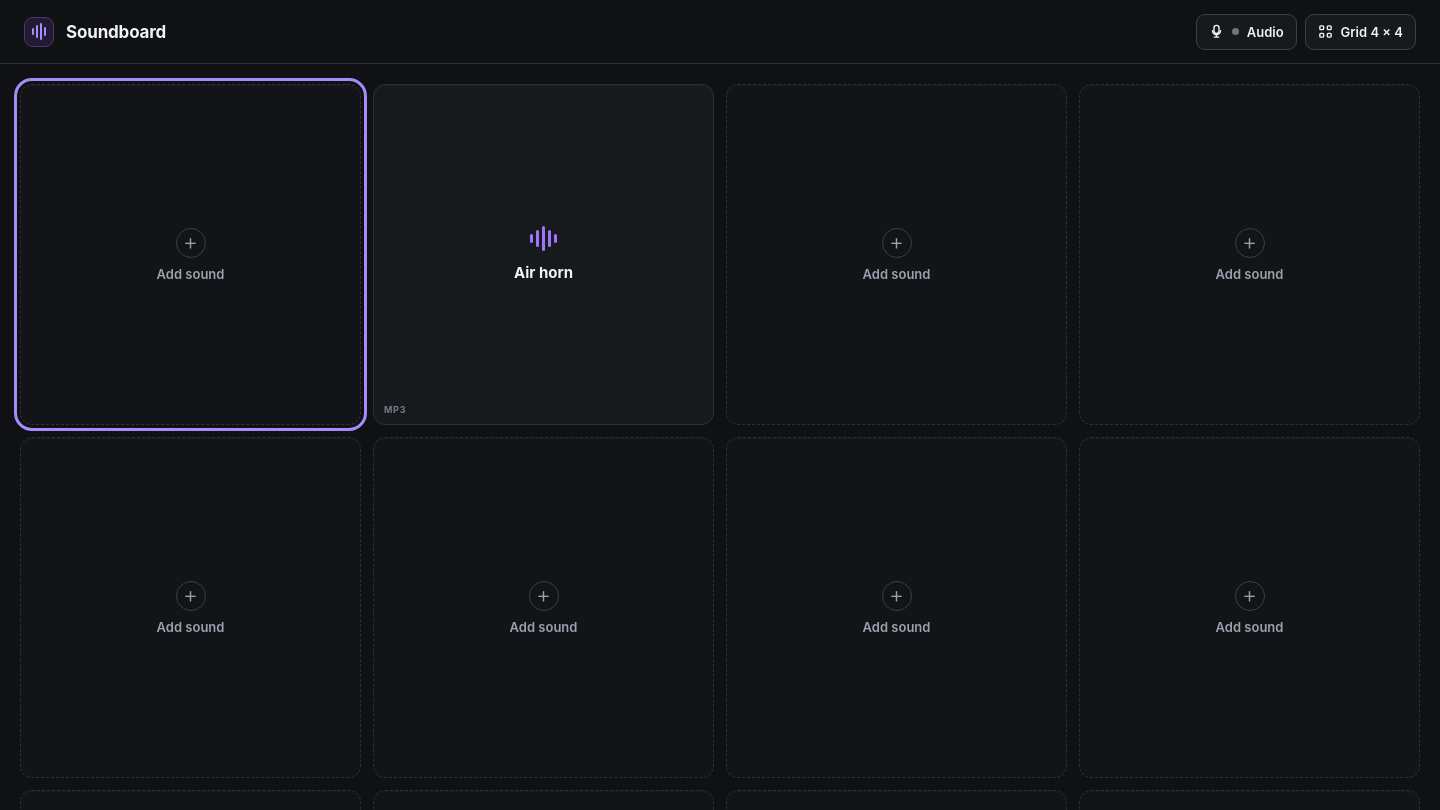
Test: Soundboard › supports empty-cell import and menu workflows from the keyboard
Click the button with aria-label "Row 1, column 1, empty, add sound".
click(190, 254)  # box 20,84 -> 361,425
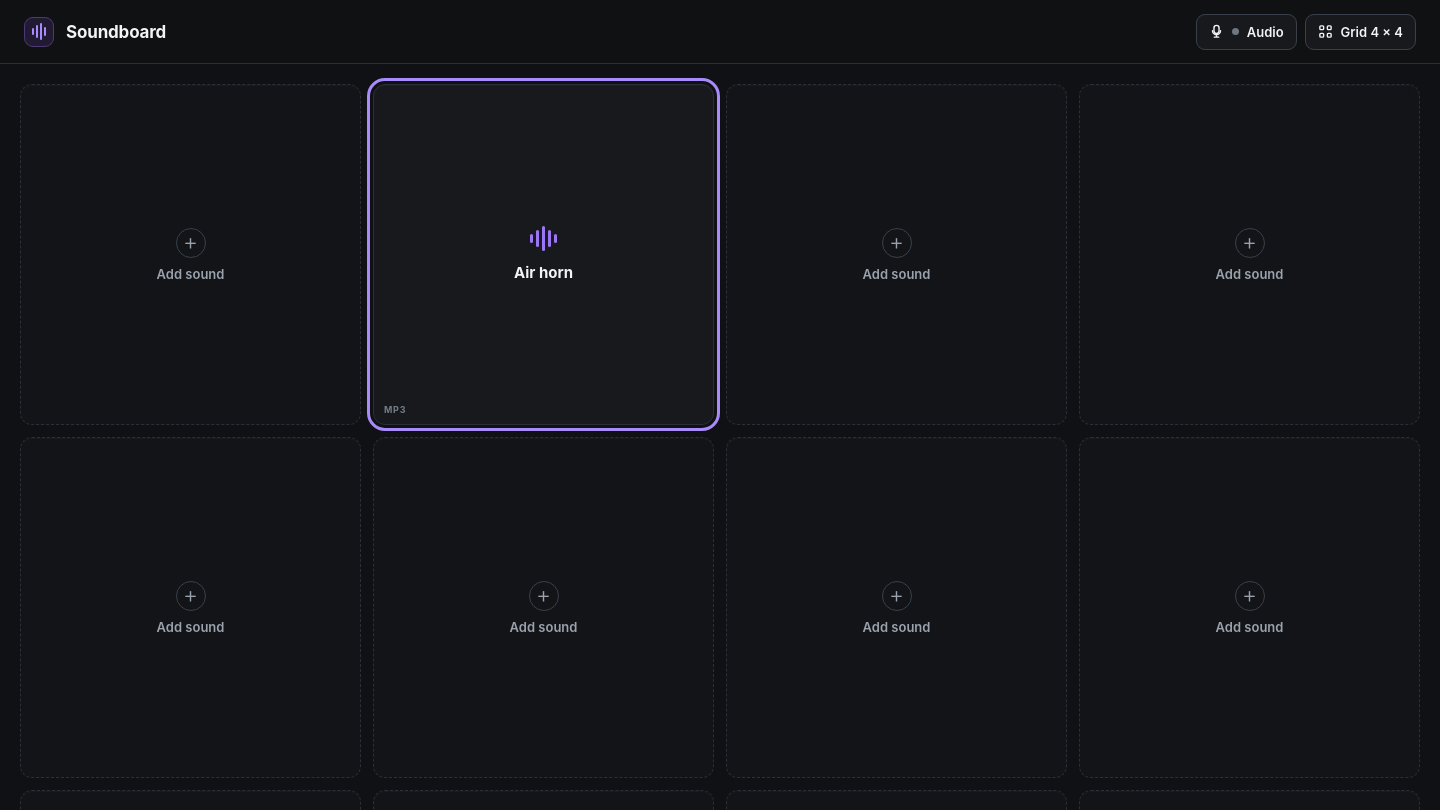
Press ContextMenu in the button with aria-label "Row 1, column 2, Air horn", box 373,84 -> 714,425
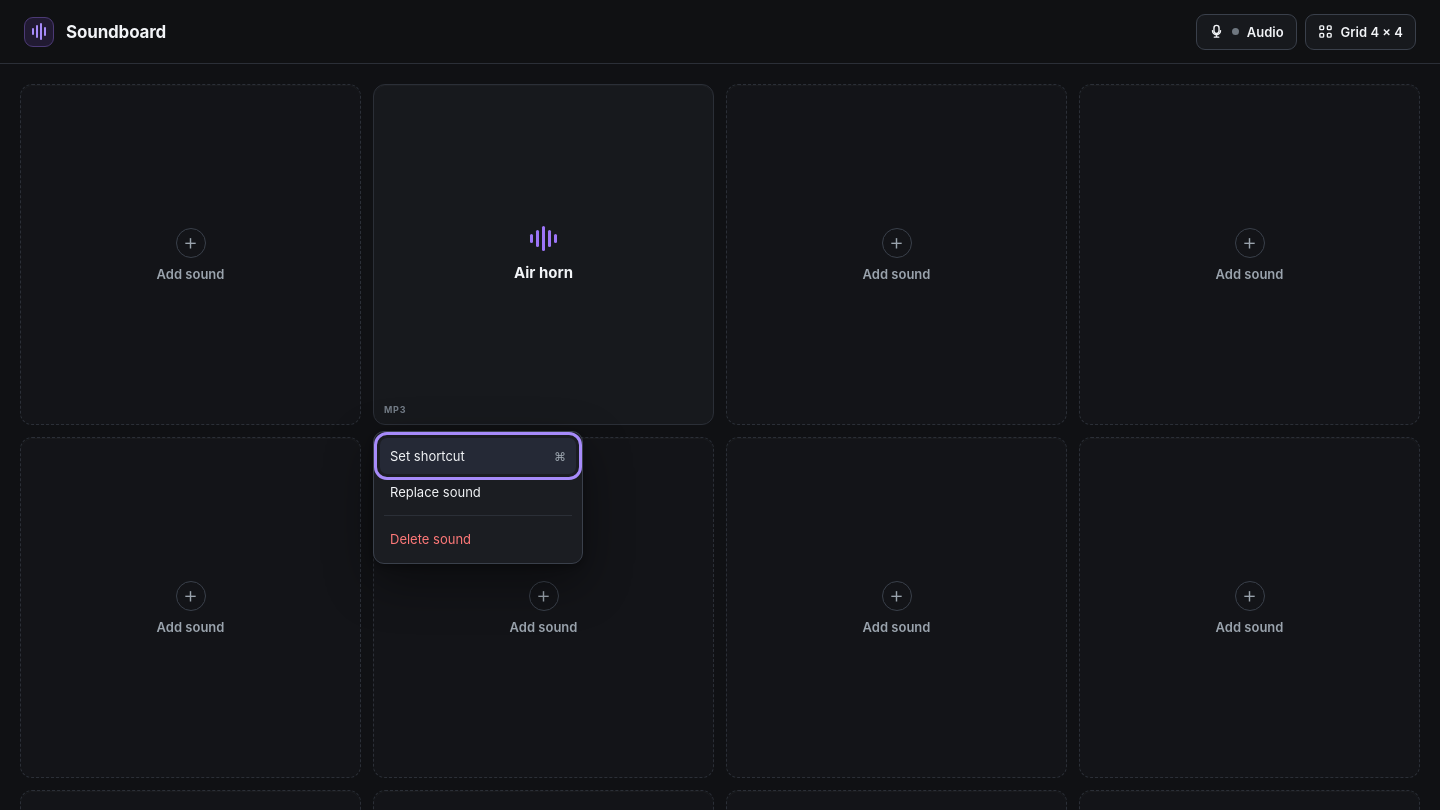
Expected: the menu is shown, 373,431 -> 583,564
